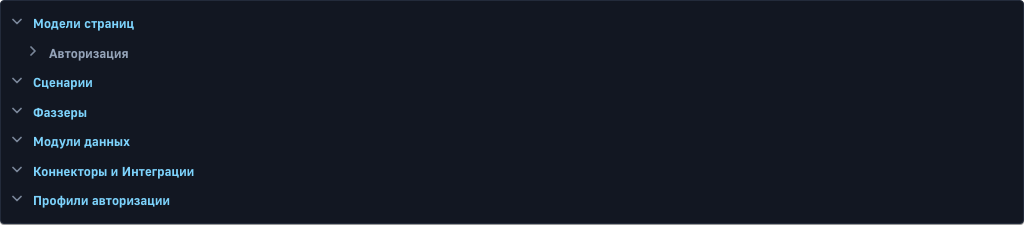
StudioBlocksTree folders › даёт в ПКМ секции создать сущность и добавить группу
The width and height of the screenshot is (1024, 242).
Right-click the text "Модели страниц" at (84, 23), box [33,15,134,31]
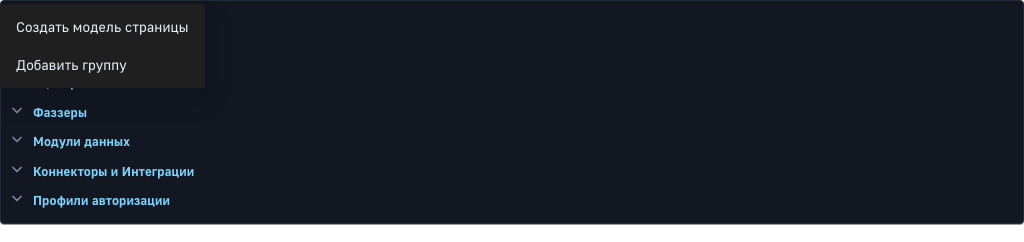
Check: the text "Создать модель страницы" is shown, box [16,16,189,38]
Check: the text "Добавить группу" is shown, box [16,56,127,73]
